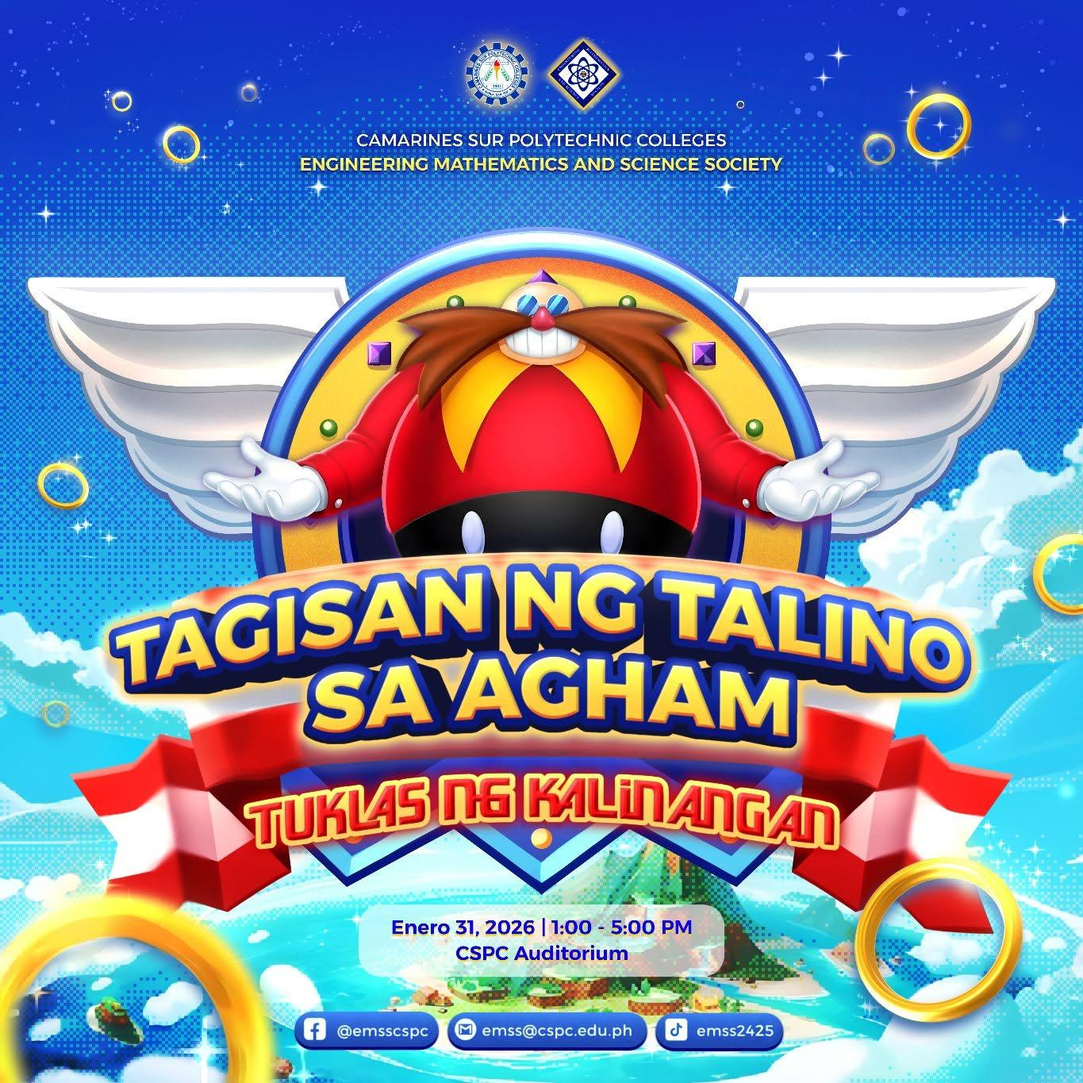embellishment: (24, 212, 1067, 580), (0, 893, 277, 1083), (854, 854, 1024, 1024), (905, 92, 973, 163), (1032, 533, 1082, 617), (36, 461, 90, 510), (161, 125, 202, 167), (862, 134, 896, 168), (40, 698, 71, 728), (107, 86, 133, 113), (453, 1019, 479, 1042), (303, 1019, 327, 1042), (667, 1019, 689, 1044)
logo: (534, 34, 626, 110), (454, 30, 534, 115)
text: (100, 548, 978, 755), (236, 761, 845, 857), (291, 124, 789, 180), (382, 917, 703, 966), (481, 1018, 638, 1042), (332, 1019, 430, 1041), (691, 1022, 778, 1041)
underlay: (360, 903, 725, 978), (447, 1010, 647, 1051), (652, 1013, 785, 1054), (297, 1011, 437, 1049)
